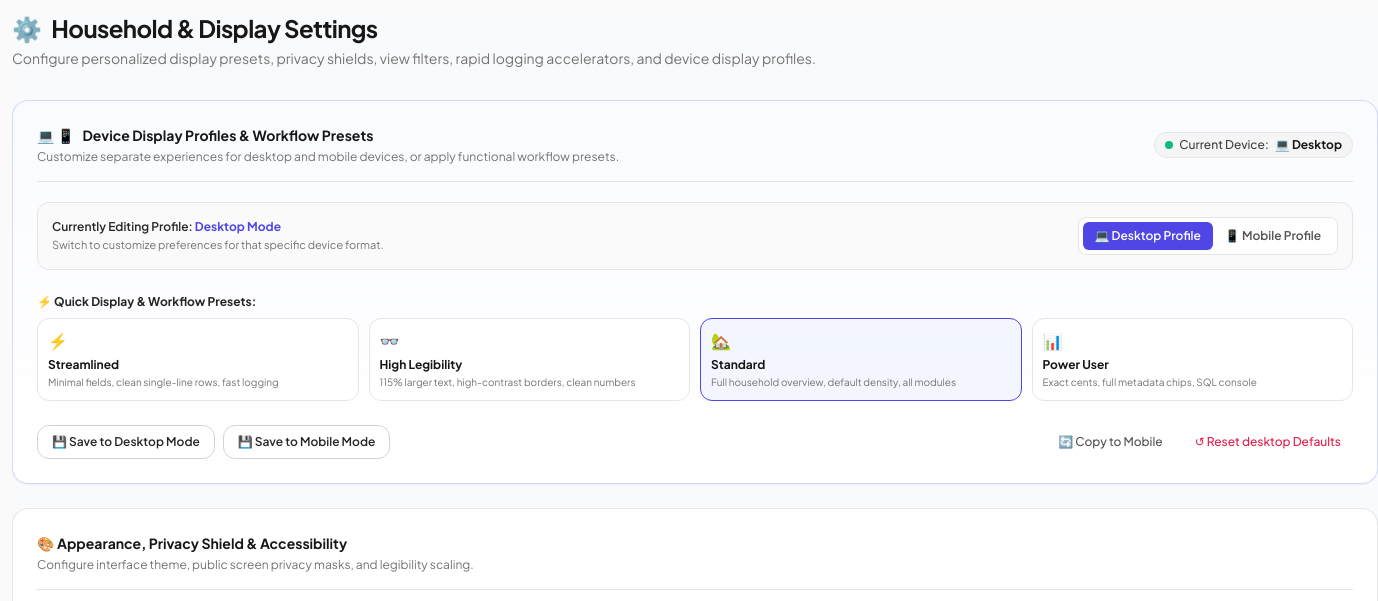
Test case: SettingsTab.svelte — Central Settings & Preferences › allows switching between desktop and mobile profiles and saving them
The image size is (1378, 601).
Expected: the text "Device Display Profiles" is shown, [12,49,816,67]
Click the button with id "btn-switch-profile-mobile" at (1273, 236), box [1213,222,1333,250]
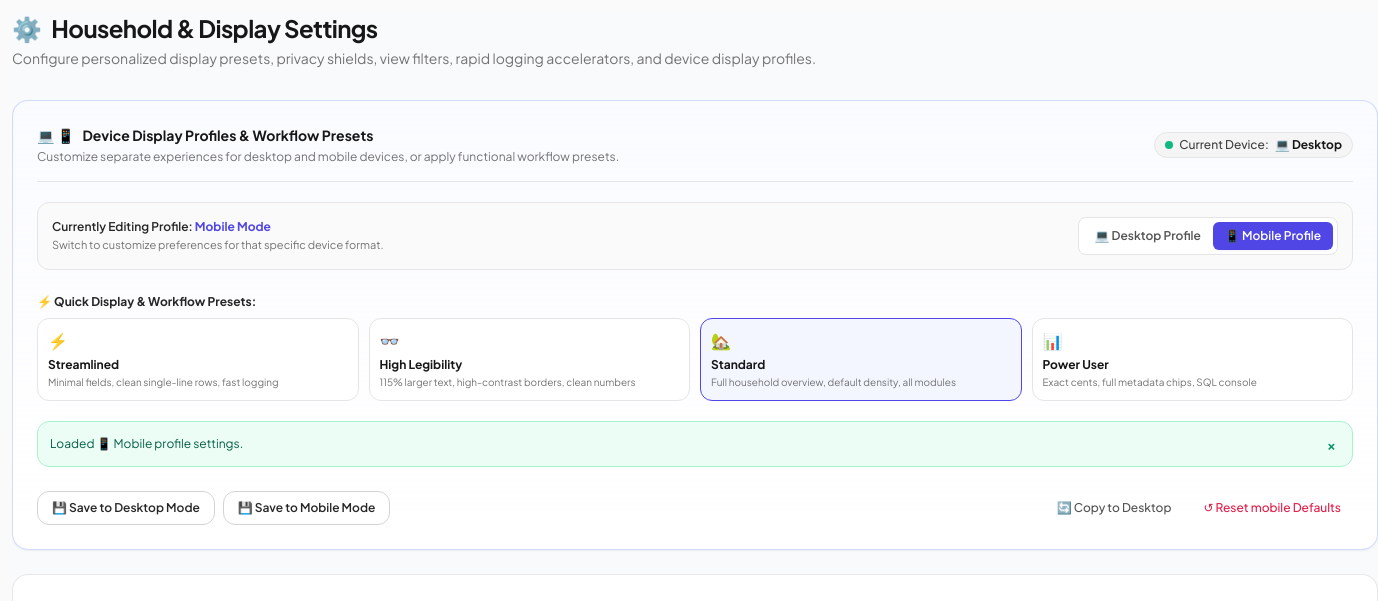
Expected: the text "Loaded 📱 Mobile profile settings." is shown, [50,436,243,452]
Click the button with id "btn-save-mobile-profile" at (307, 508), box [223,491,390,525]
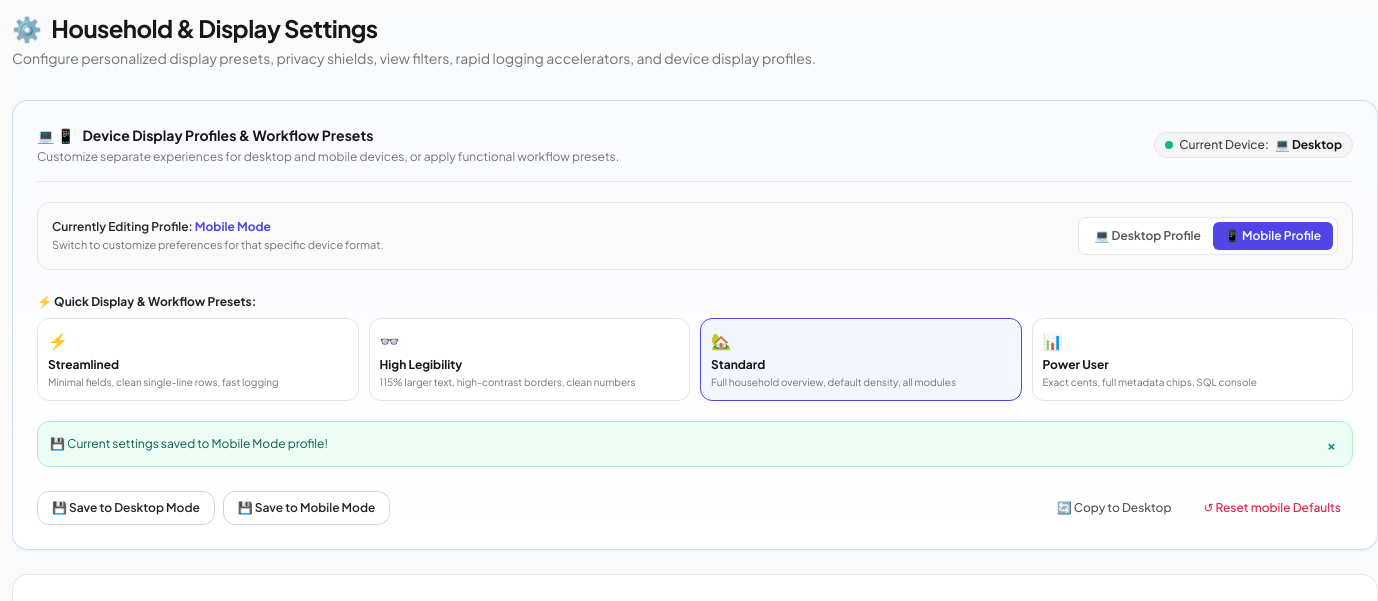
Expected: the text "💾 Current settings saved to Mobile Mode profile!" is shown, [50,436,328,452]
Click the button with id "btn-save-desktop-profile" at (126, 508), box [37,491,215,525]
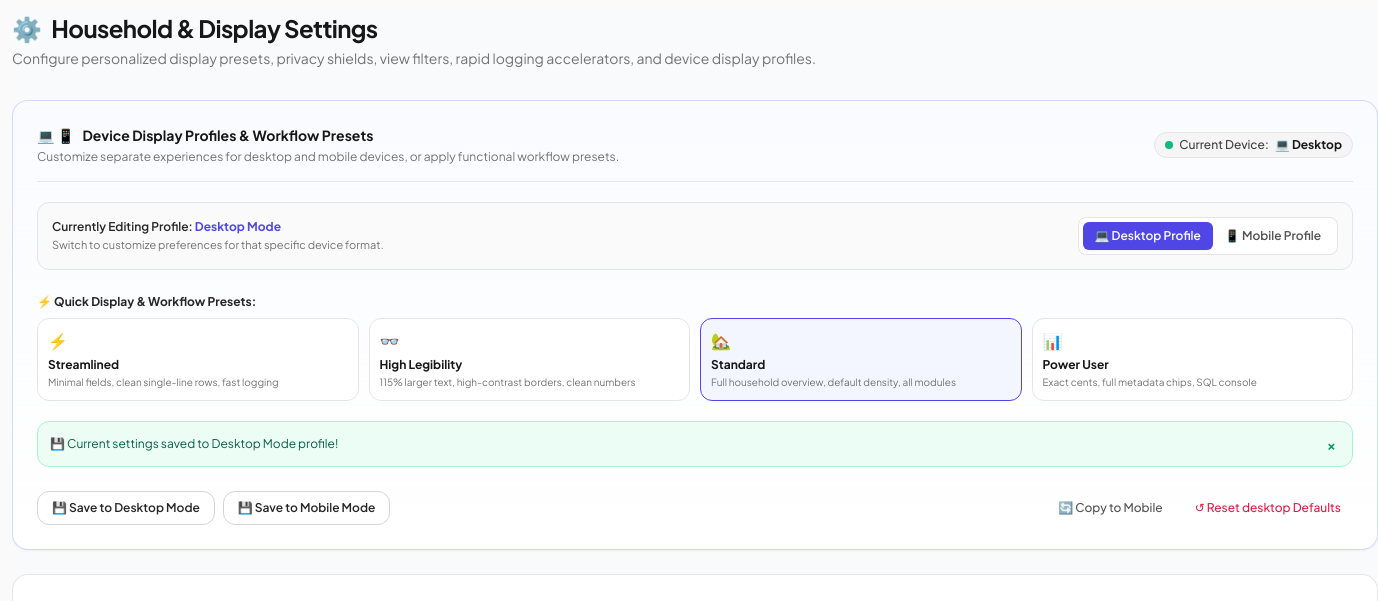
Expected: the text "💾 Current settings saved to Desktop Mode profile!" is shown, [50,436,338,452]
Click the button with id "btn-copy-profile" at (1110, 508), box [1046,494,1175,522]
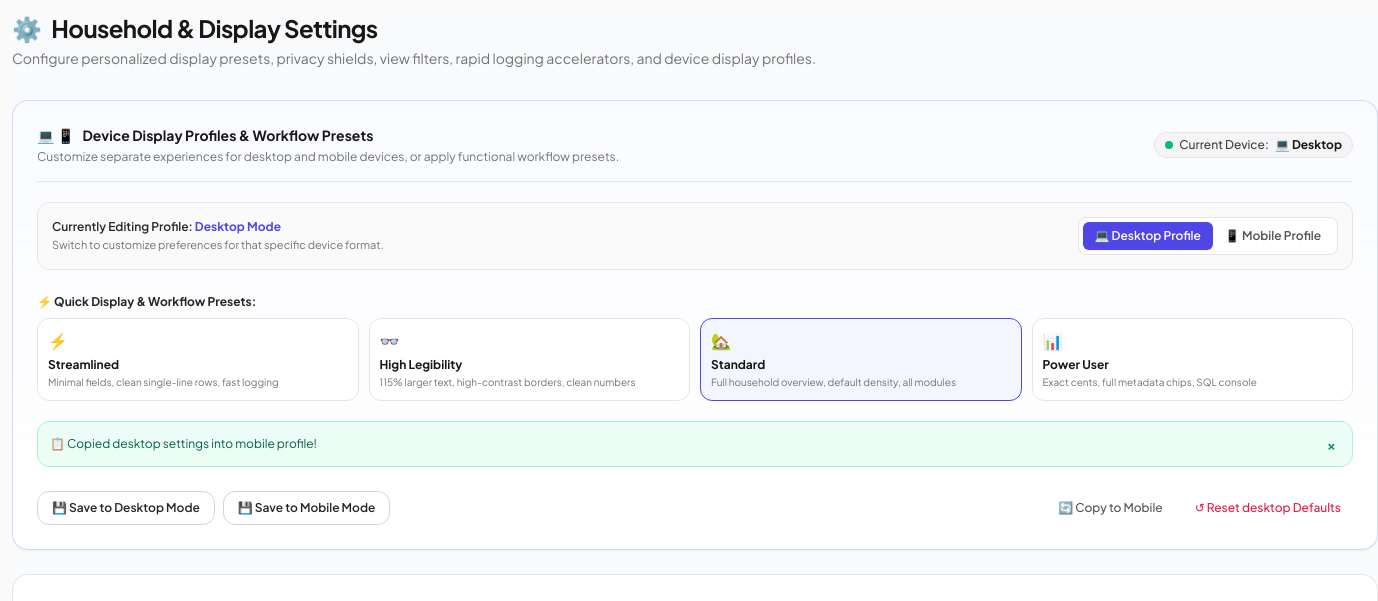
Expected: the text "📋 Copied desktop settings into mobile profile!" is shown, [50,436,317,452]
Click the button with id "btn-reset-profile" at (1268, 508), box [1183,494,1353,522]
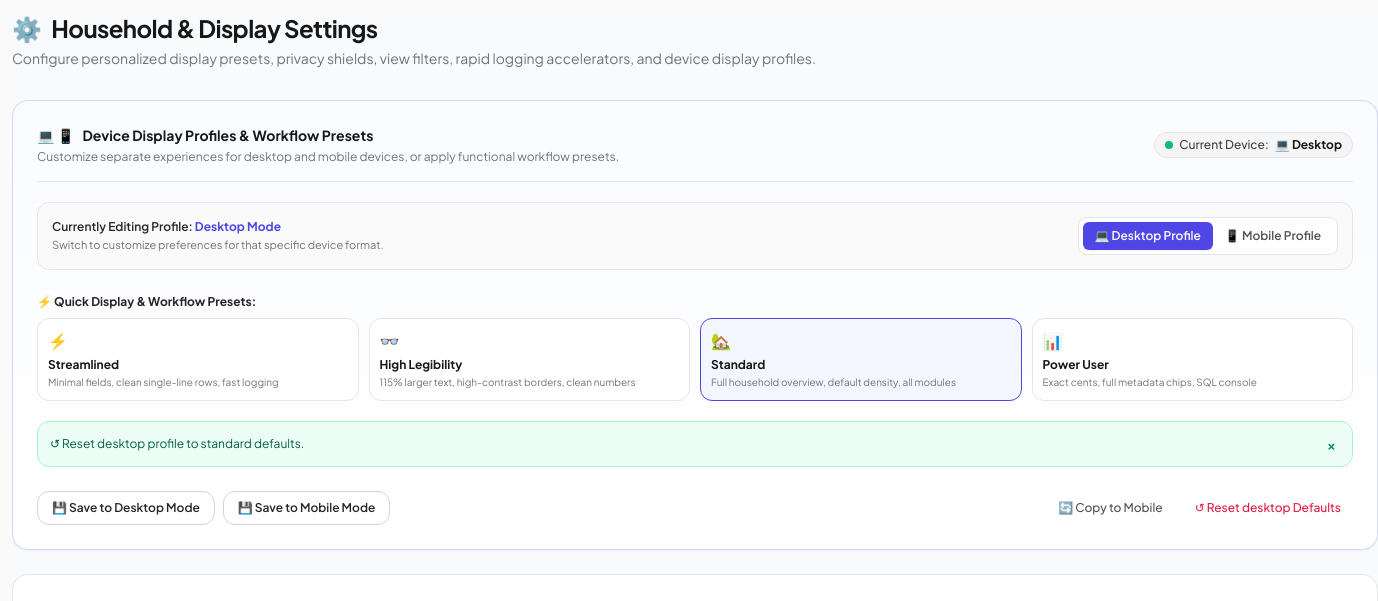
Expected: the text "↺ Reset desktop profile to standard defaults." is shown, [50,436,304,452]
